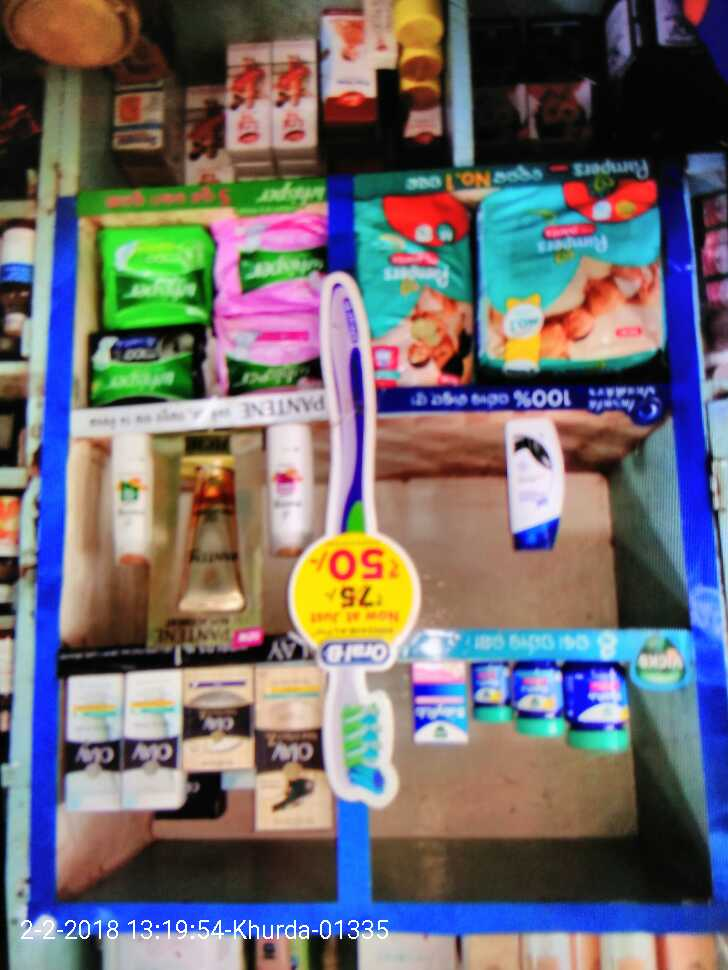vicks: (392, 653, 637, 774)
